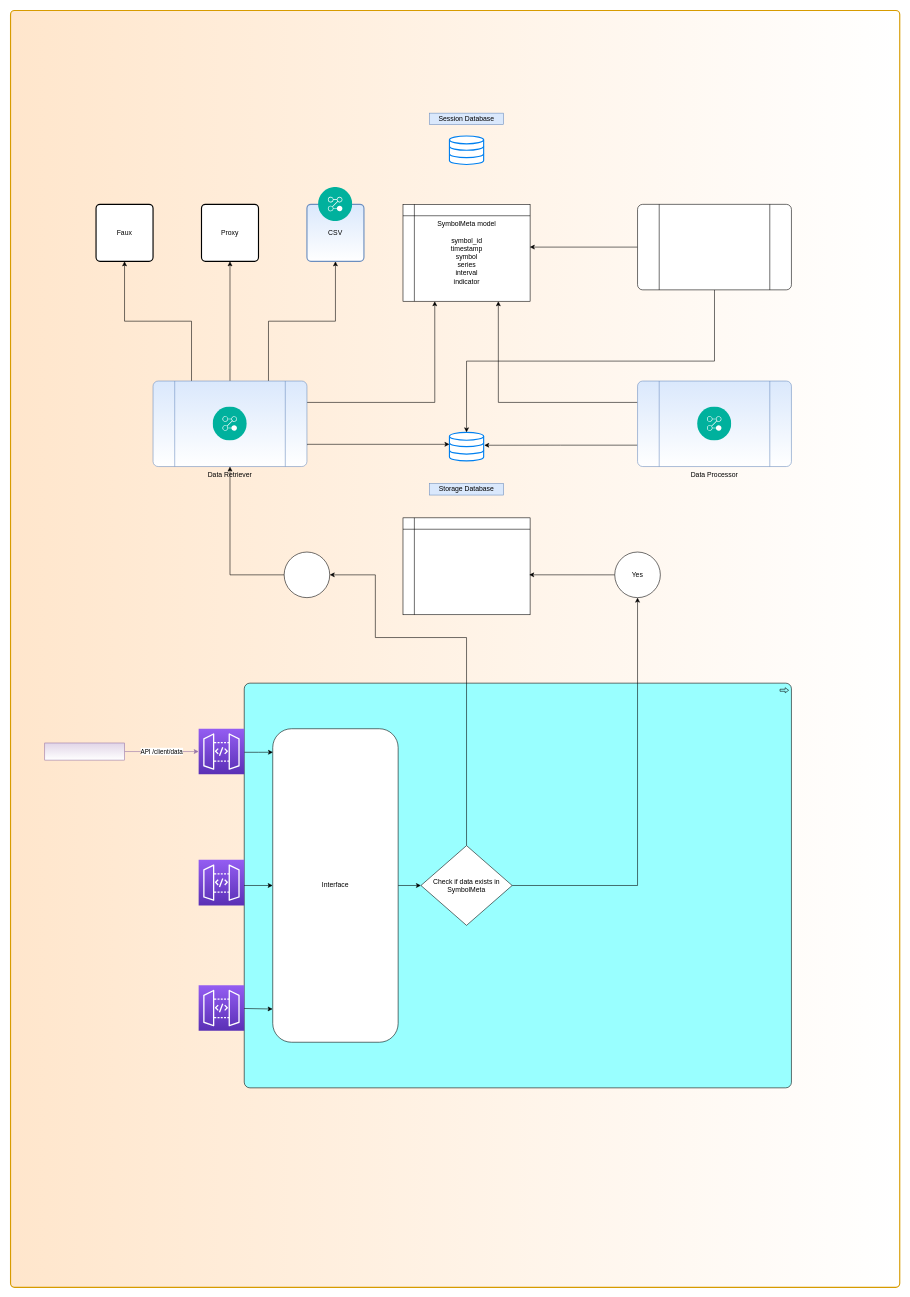
The diagram is 910 pixels wide and 1297 high, and some of its shapes have lost their labels. The centre of each missing label's shape, as x and y in pixels:
"Cassandra" goes at point (466, 150).
"Data Inspector" goes at point (714, 247).
"Fetch data given Symbol, Interval. Duration" goes at point (84, 751).
"No" goes at point (307, 574).
"SymbolData model symbol_id timestamp open close high low" goes at point (466, 566).
"TimescaleDB" goes at point (466, 446).
